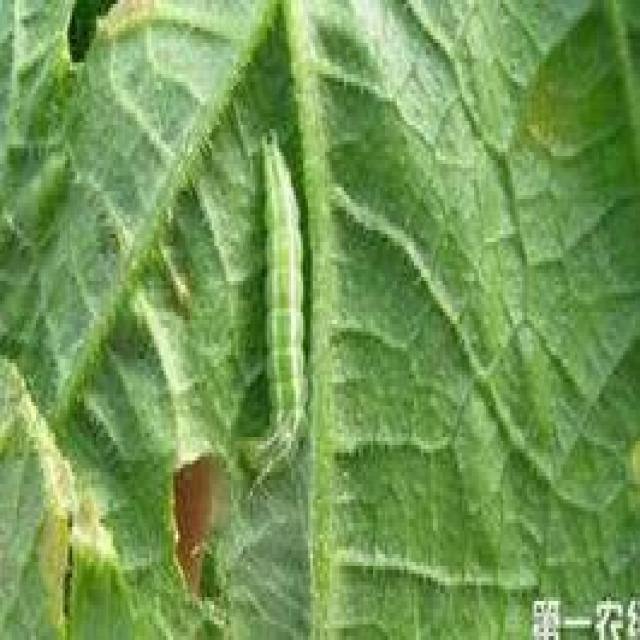BeetArmyWorm-Larva-: (246, 116, 322, 485)
